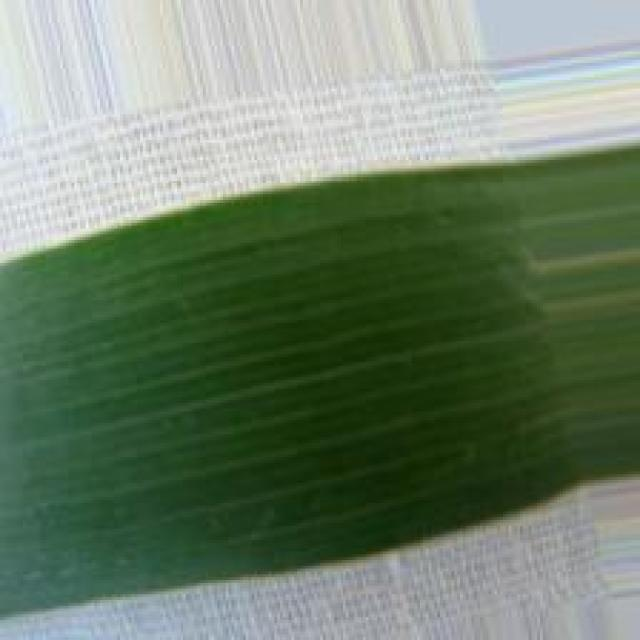Healthy: (0, 146, 640, 617)
